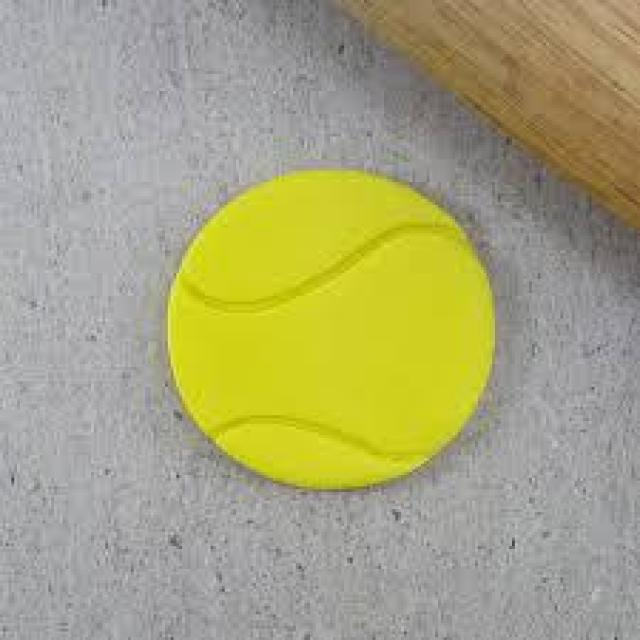ball: (158, 170, 506, 492)
